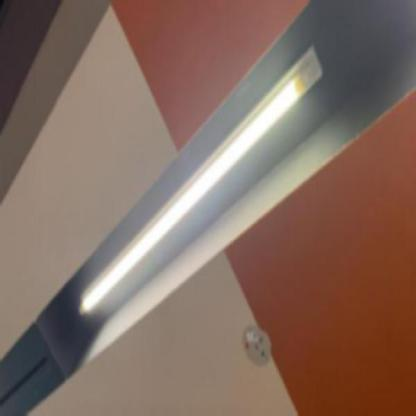light_on: (70, 34, 330, 328)
